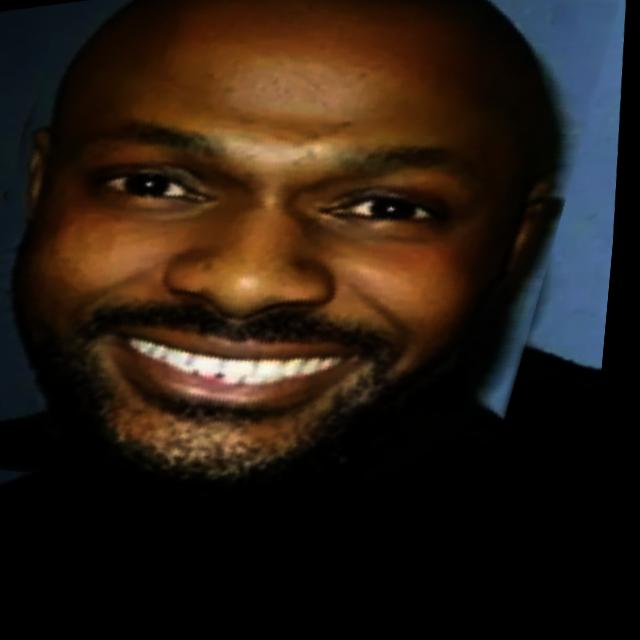happy: (0, 0, 616, 556)
